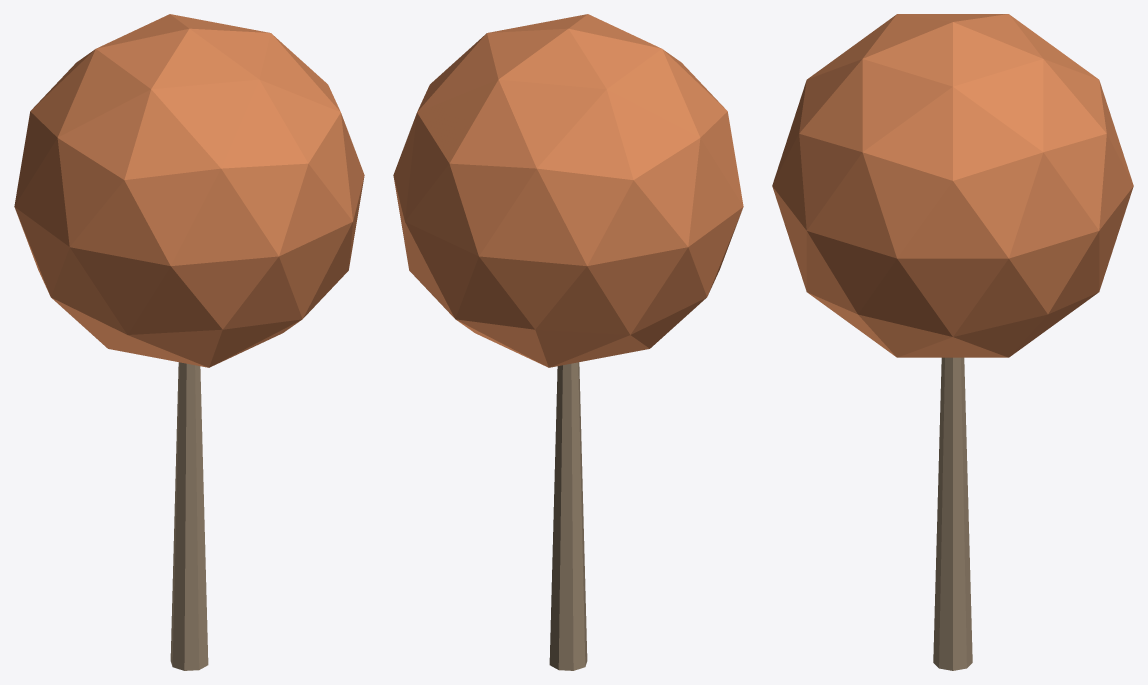
File: maple_medium.glb
3 renders of one model, left to right at view 1: azimuth 30°, elevation 25°; view 2: azimuth 150°, elevation 25°; view 3: azimuth 270°, elevation 25°, orthographic.
Parts seen in each view (by area): view 1: MapleMedium; view 2: MapleMedium; view 3: MapleMedium.
Part boxes in pixels (x1,y1,x2,y2): MapleMedium: [14, 14, 364, 670]; MapleMedium: [393, 14, 743, 670]; MapleMedium: [772, 14, 1133, 670].
Bounding box in the file's own units: 1.05 × 2.15 × 1.1.
